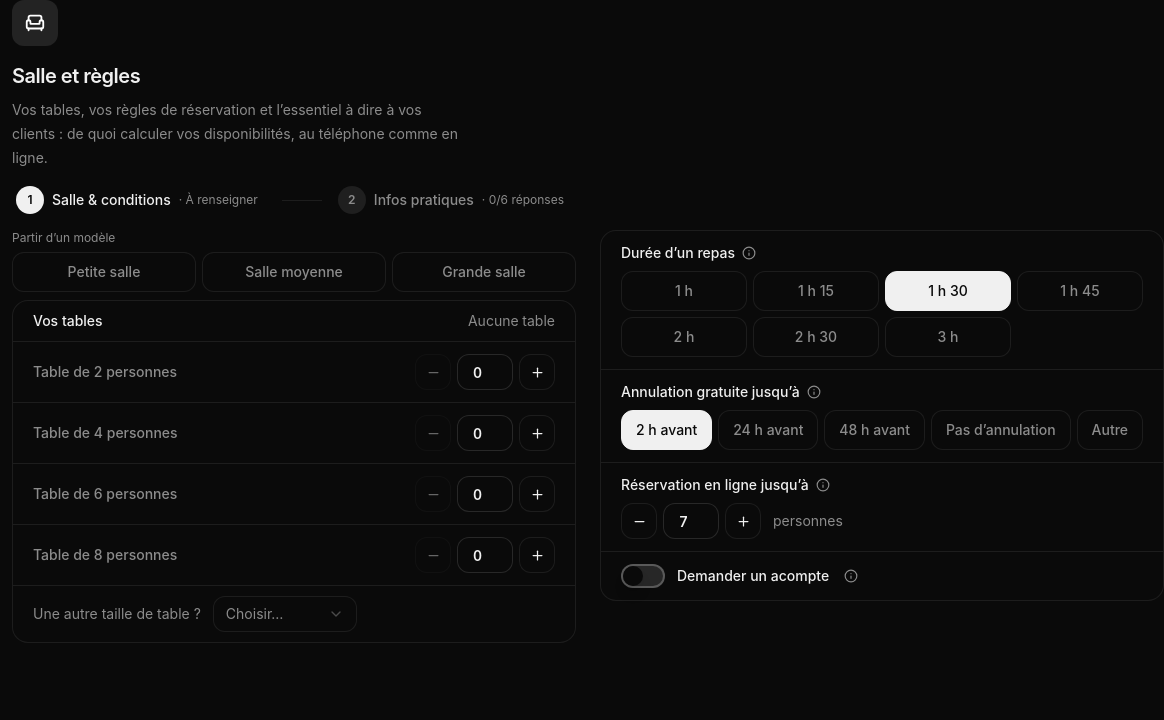
repère le modèle choisi et résume les tables en tête de liste
This screenshot has width=1164, height=720.
Expected: the button "1 Salle & conditions · À renseigner" is shown, top-left (12, 182), bottom-right (270, 218)
Click the button "Petite salle" at (104, 272), box top-left (12, 252), bottom-right (196, 292)
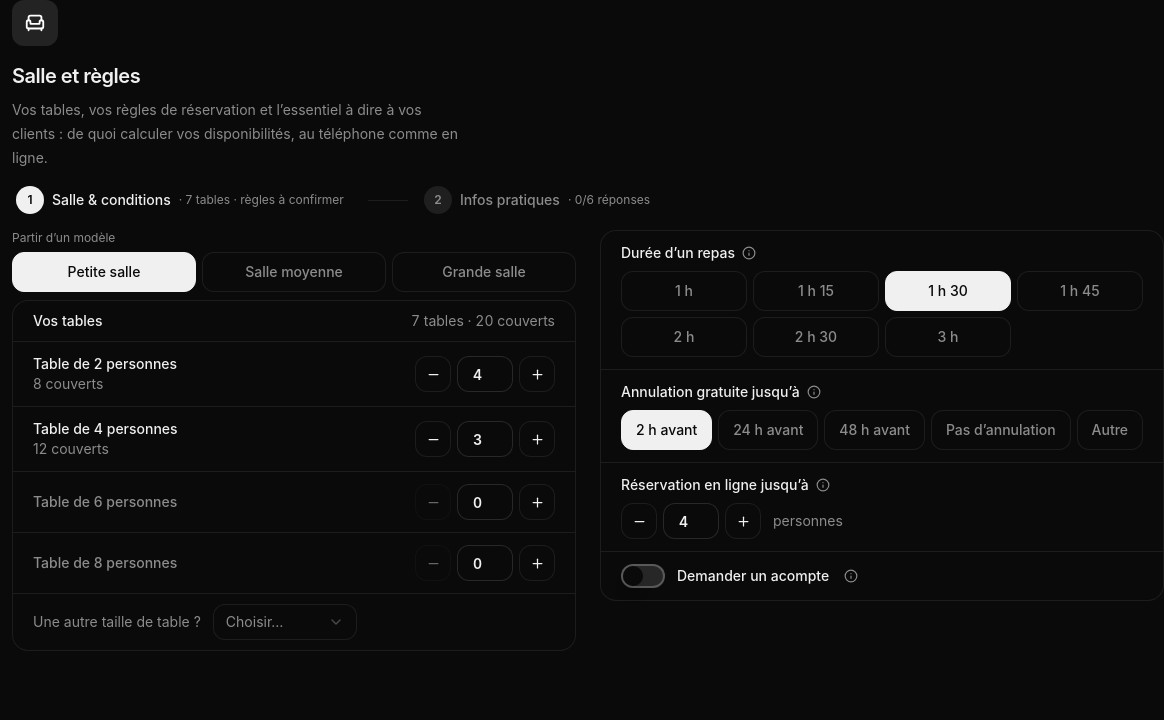
Now the text "7 tables · 20 couverts" is shown, box top-left (411, 311), bottom-right (555, 331)
Click the button named "Une table de 2 en plus" at (537, 374), box top-left (519, 356), bottom-right (555, 392)
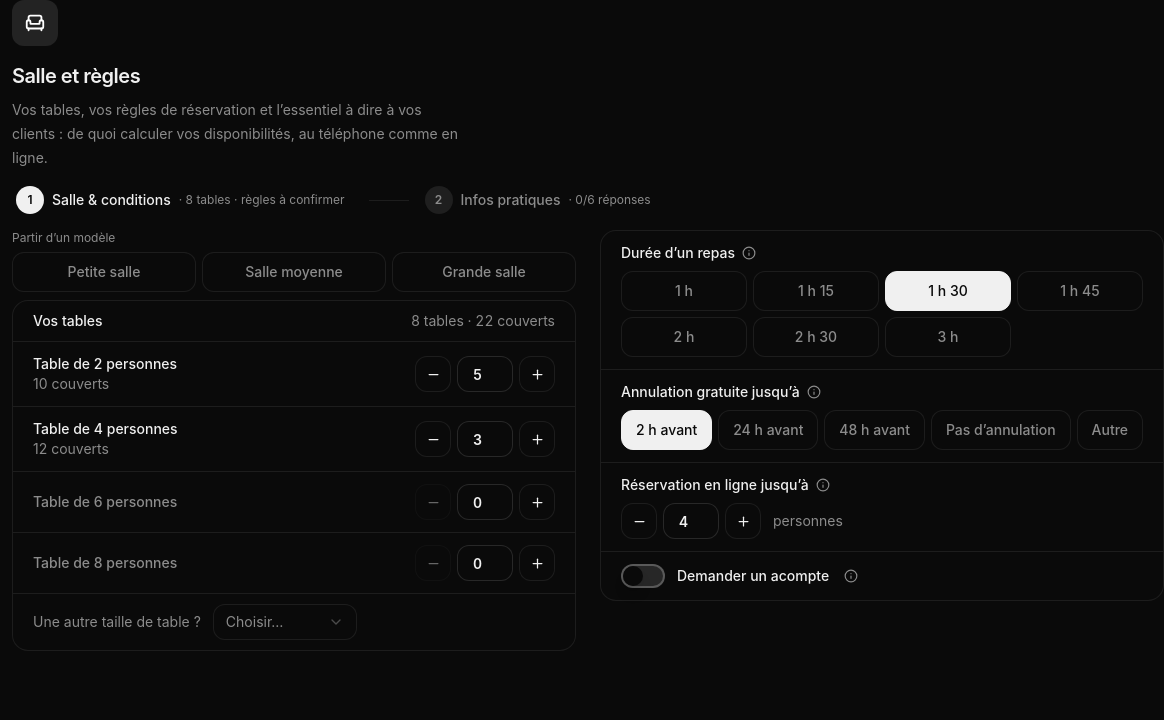
Now the text "8 tables · 22 couverts" is shown, box top-left (411, 311), bottom-right (555, 331)
